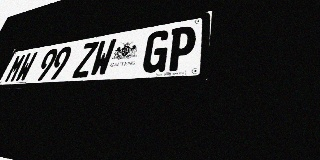9: (47, 46, 73, 80), (34, 48, 60, 81)
G: (140, 29, 171, 73)
M: (4, 53, 27, 83)
P: (165, 25, 197, 72)
W: (88, 38, 117, 77), (14, 52, 38, 82)
Z: (72, 41, 99, 78)
